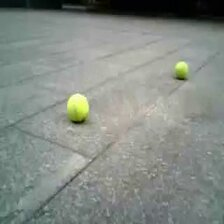tennis: (67, 94, 89, 121), (174, 61, 189, 80)
